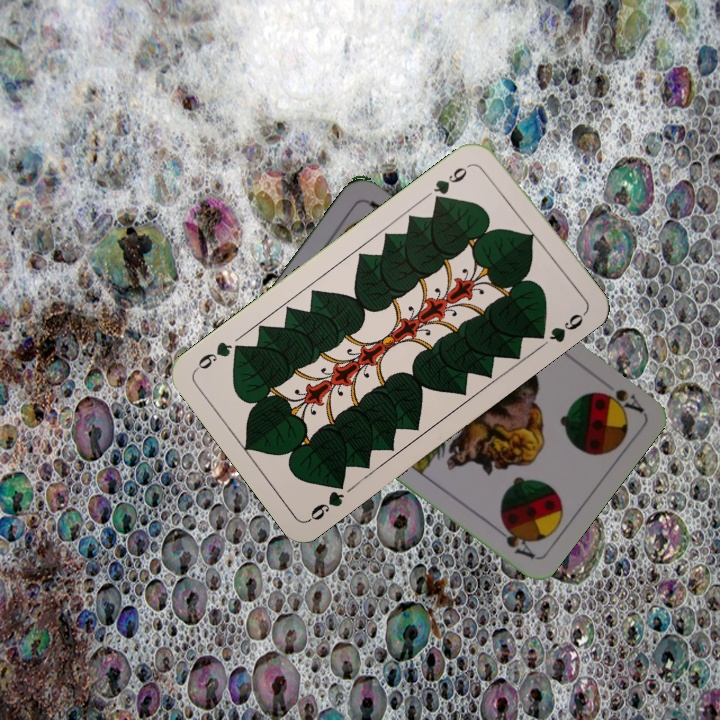G9: (429, 159, 476, 206), (305, 474, 348, 524)
SA: (596, 384, 645, 415)
